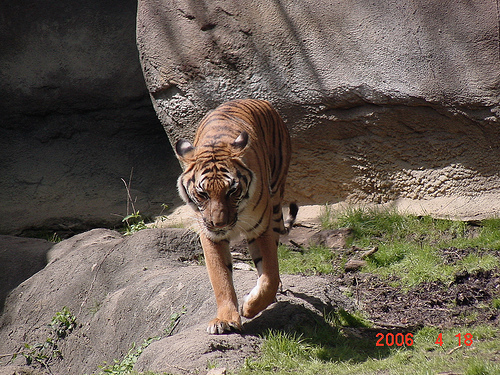Tigre: (169, 106, 311, 323)
